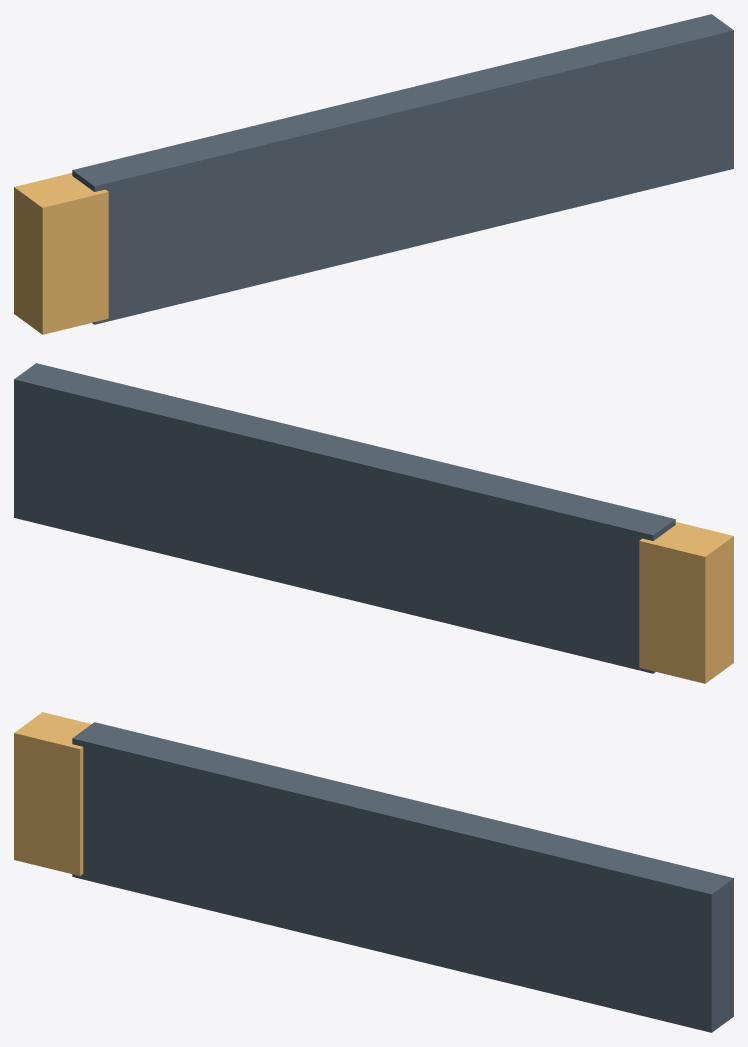
3 renders of one model, top to bottom at view 1: azimuth 30°, elevation 25°; view 2: azimuth 150°, elevation 25°; view 3: azimuth 330°, elevation 25°, orthographic.
Parts seen in each view (by area): view 1: m2 ssd board, m2 connector; view 2: m2 ssd board, m2 connector; view 3: m2 ssd board, m2 connector.
Boxes of the visible parts, left/top/right/bottom form: m2 ssd board: left=72, top=14, right=733, bottom=324; m2 connector: left=14, top=173, right=108, bottom=334; m2 ssd board: left=14, top=363, right=675, bottom=673; m2 connector: left=639, top=522, right=733, bottom=683; m2 ssd board: left=72, top=722, right=733, bottom=1032; m2 connector: left=14, top=712, right=91, bottom=875.
Size of the model in its own units: 0.63 by 0.12 by 0.045.
